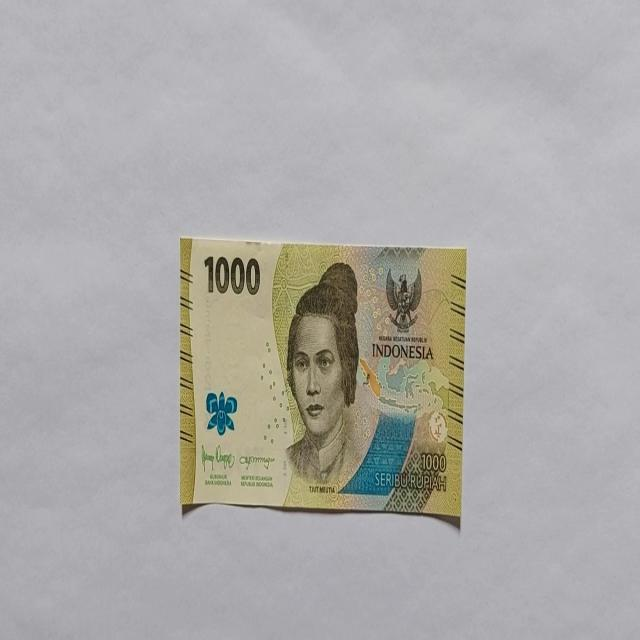seribu rupiah kertas: (179, 235, 466, 520)
